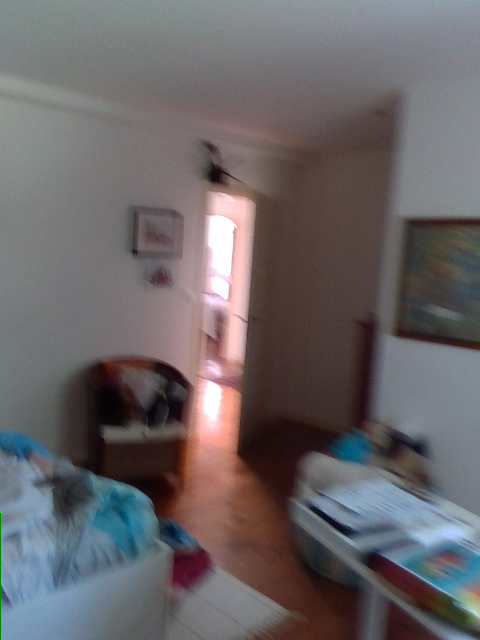semi: (184, 182, 280, 455)
